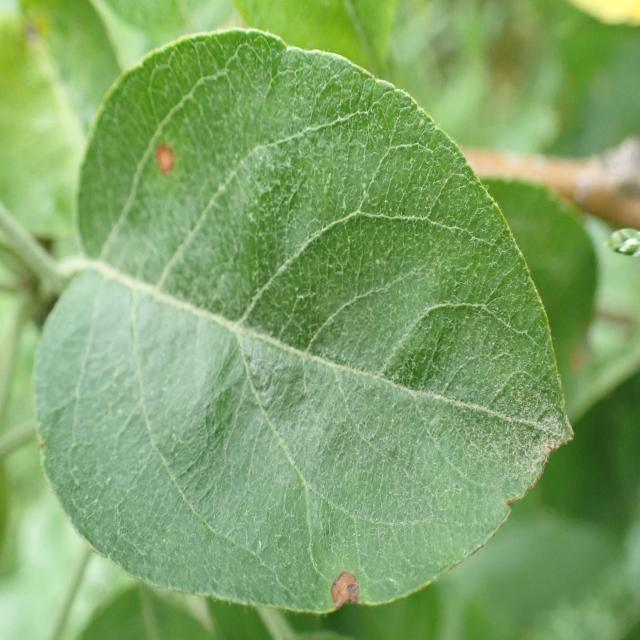frog-eye-leaf-spot: (30, 27, 578, 619)
